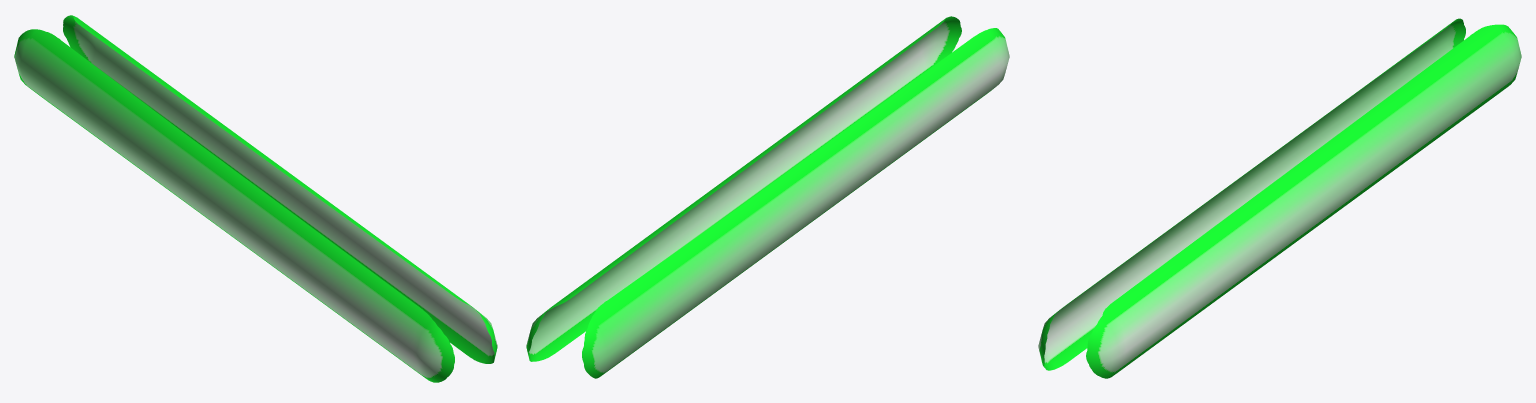
File: Laser.fbx
3 renders of one model, left to right at view 1: azimuth 30°, elevation 25°; view 2: azimuth 150°, elevation 25°; view 3: azimuth 330°, elevation 25°, orthographic.
Visible parts, largest first — view 1: Capsule001; view 2: Capsule001; view 3: Capsule001.
Boxes of the visible parts, x1,y1,x2,y2 form: Capsule001: [14, 15, 497, 382]; Capsule001: [526, 16, 1009, 378]; Capsule001: [1038, 18, 1521, 378].
Bounding box in the file's own units: 7.87 × 7.87 × 78.74.
Materials: 1 (1 with a texture image).
